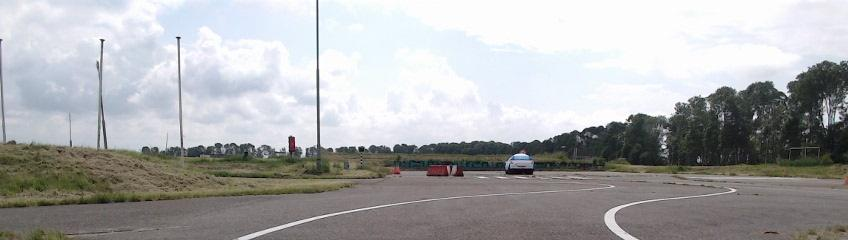Car: (505, 153, 534, 175)
